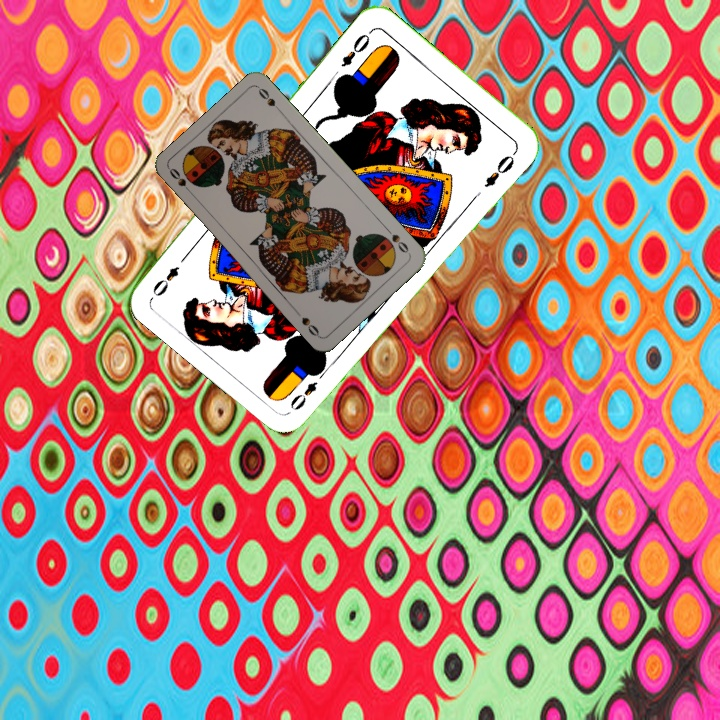EO: (337, 26, 375, 70), (286, 377, 320, 413)
SO: (165, 164, 197, 198), (382, 223, 411, 256)
